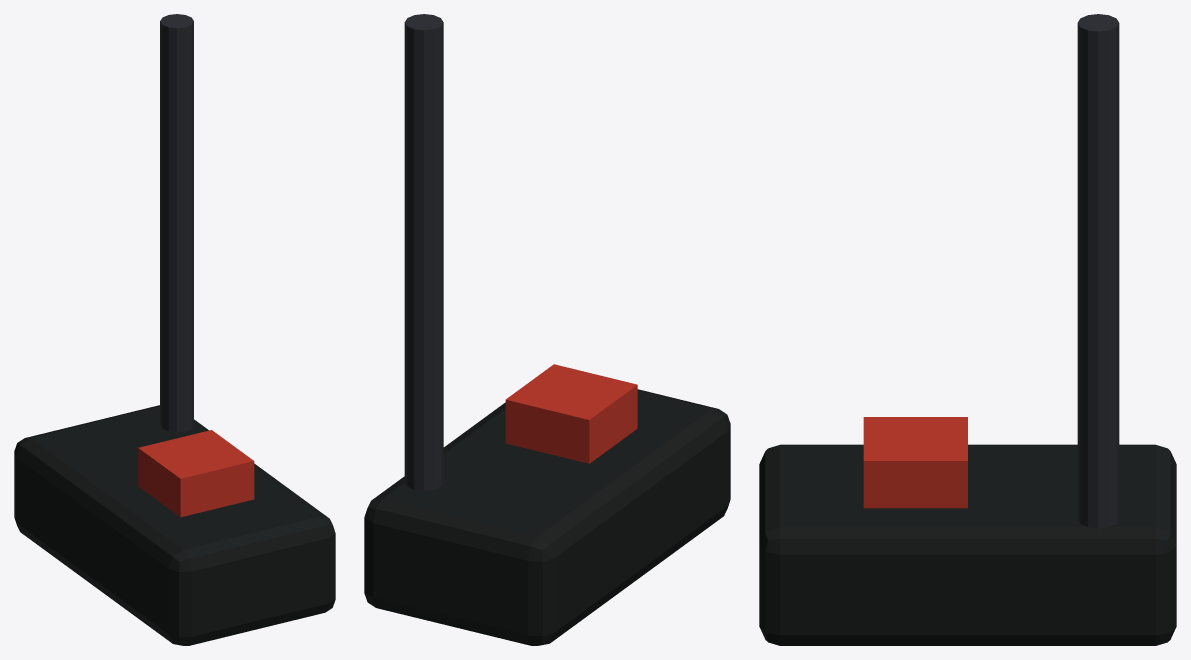
File: Detonator.obj
The picture shows the model from 3 angles, left to right: view 1: azimuth 30°, elevation 25°; view 2: azimuth 150°, elevation 25°; view 3: azimuth 270°, elevation 25°; orthographic projection. The views are drawn at different scales.
Visible parts, largest first — view 1: Detonator_Body, Detonator_Antenna, Detonator_Button; view 2: Detonator_Body, Detonator_Antenna, Detonator_Button; view 3: Detonator_Body, Detonator_Antenna, Detonator_Button.
Boxes of the visible parts, x1=… form: Detonator_Body: x1=14, y1=405, x2=335, y2=645; Detonator_Antenna: x1=160, y1=14, x2=193, y2=432; Detonator_Button: x1=138, y1=430, x2=254, y2=517; Detonator_Body: x1=364, y1=389, x2=730, y2=645; Detonator_Antenna: x1=404, y1=14, x2=443, y2=490; Detonator_Button: x1=505, y1=364, x2=637, y2=463; Detonator_Body: x1=759, y1=444, x2=1176, y2=645; Detonator_Antenna: x1=1077, y1=14, x2=1119, y2=528; Detonator_Button: x1=863, y1=417, x2=967, y2=508.
Size of the model in its own units: 0.09 by 0.26 by 0.16.
